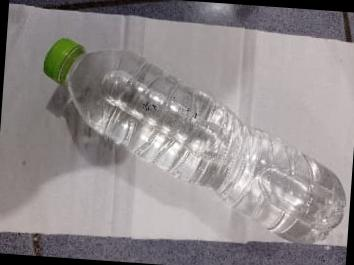Plastik: (44, 39, 345, 241)
